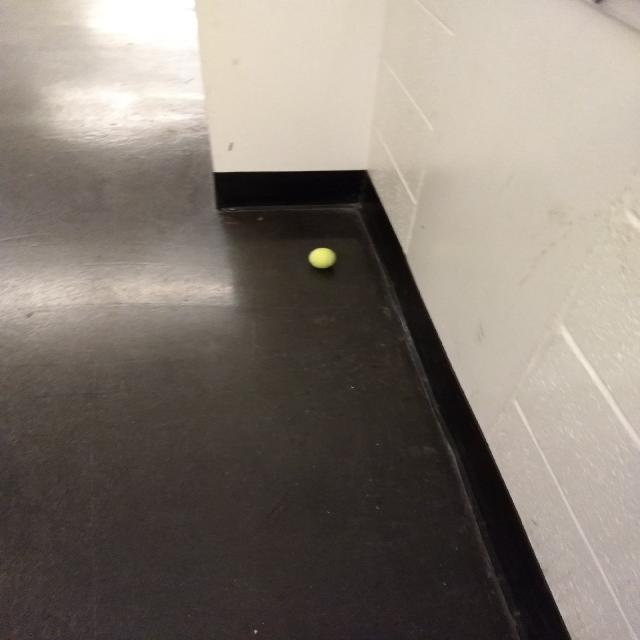tennis-ball: (310, 246, 336, 268)
